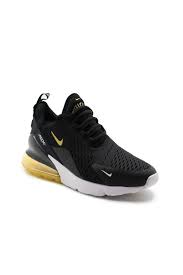nike: (49, 132, 65, 148), (101, 169, 112, 179)
